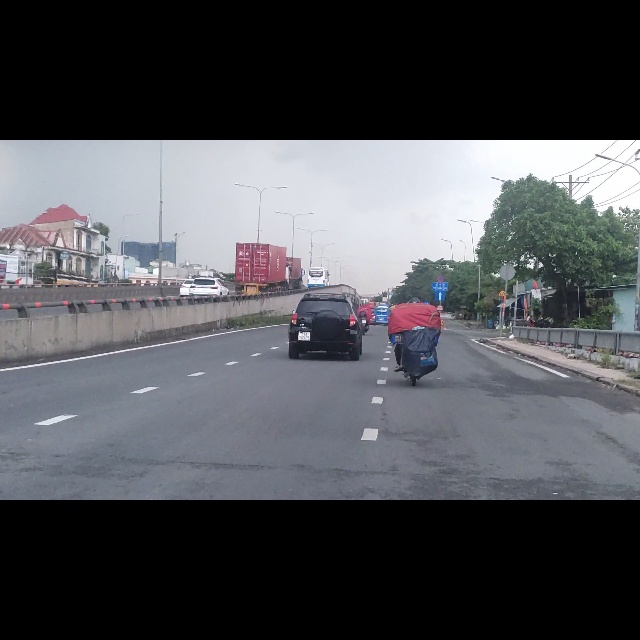bien_chi_dan: (435, 268, 445, 286), (437, 240, 444, 252)
